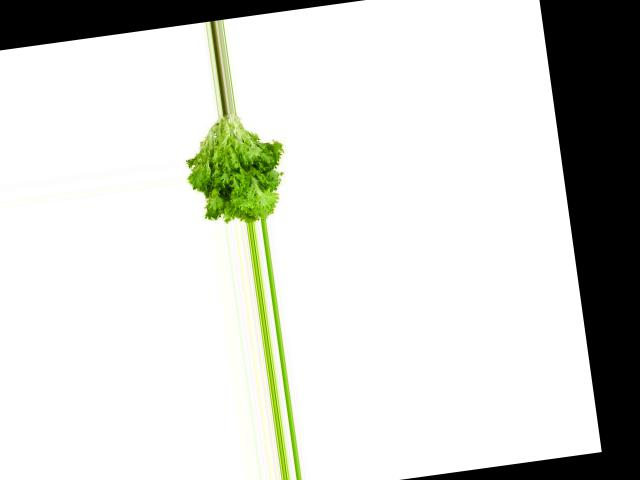lettuce: (175, 105, 293, 229)
